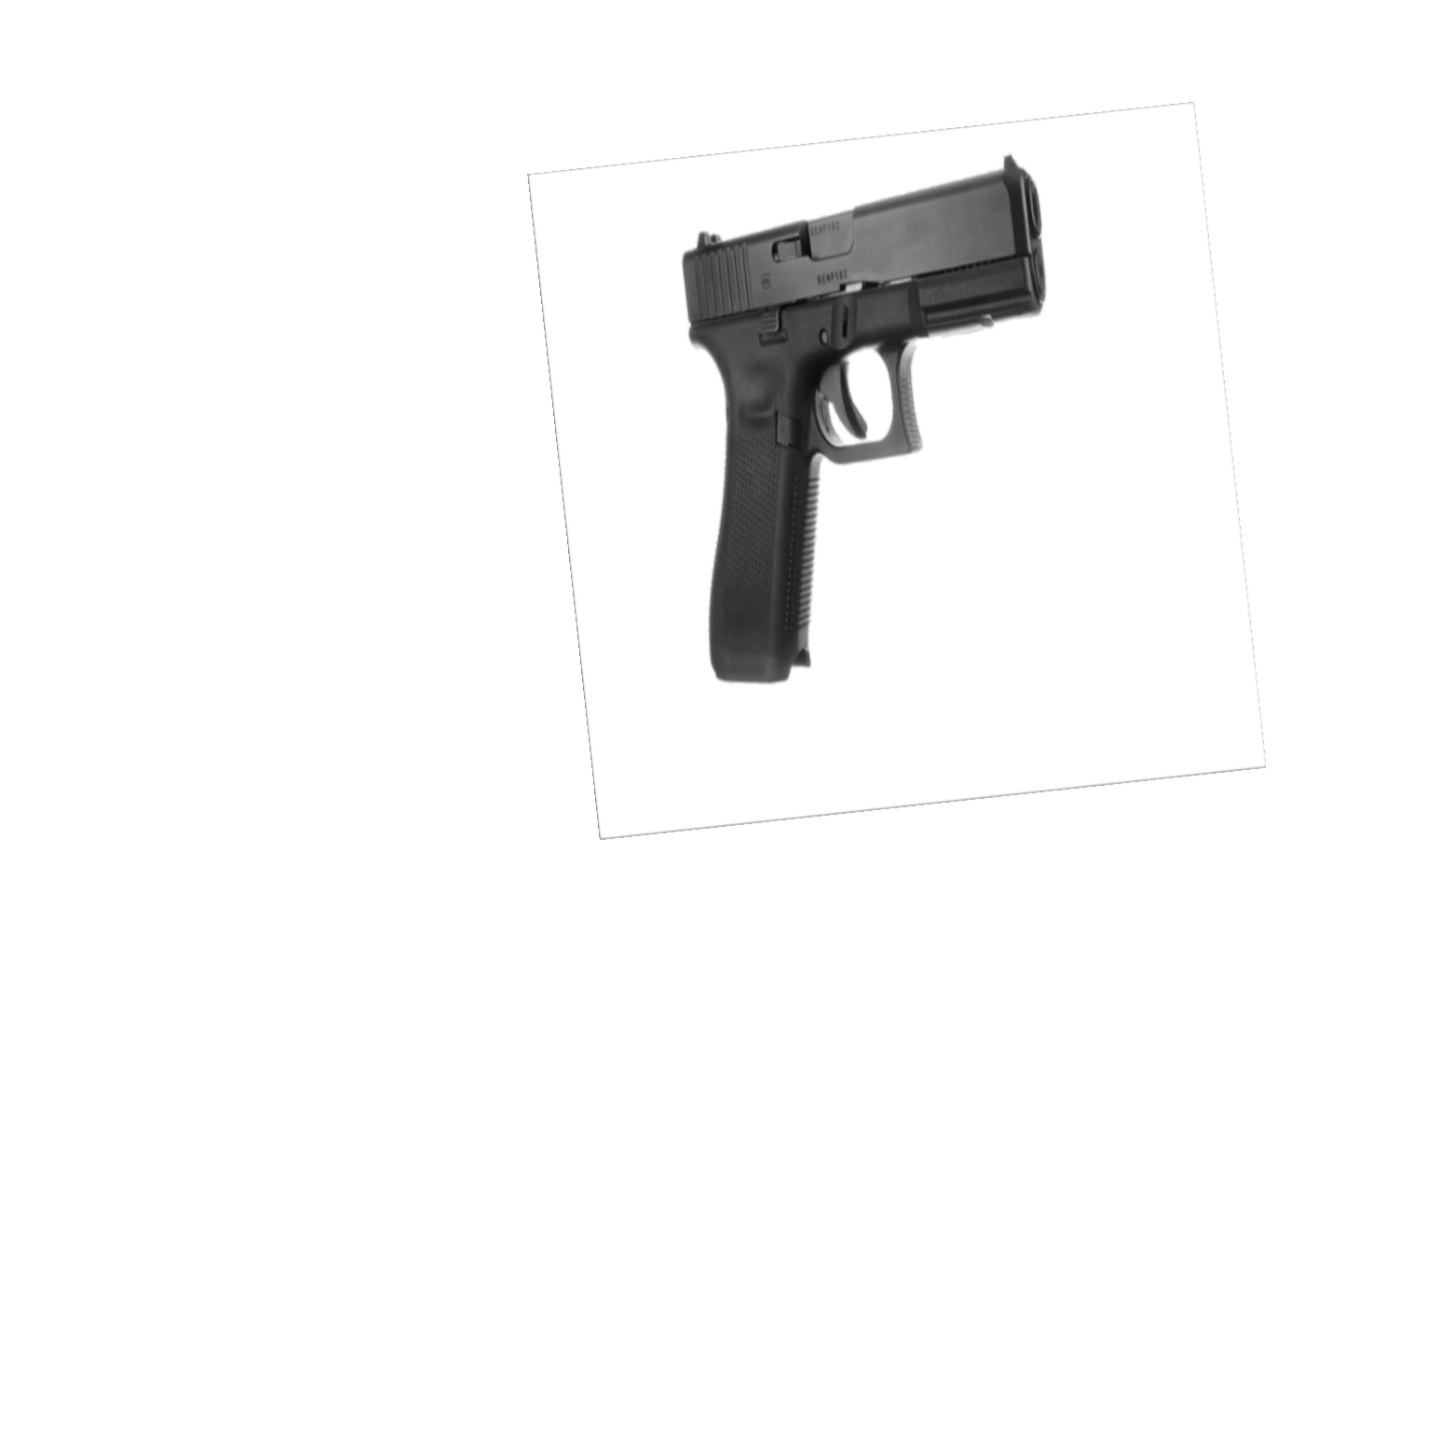gun: (678, 149, 1053, 697)
